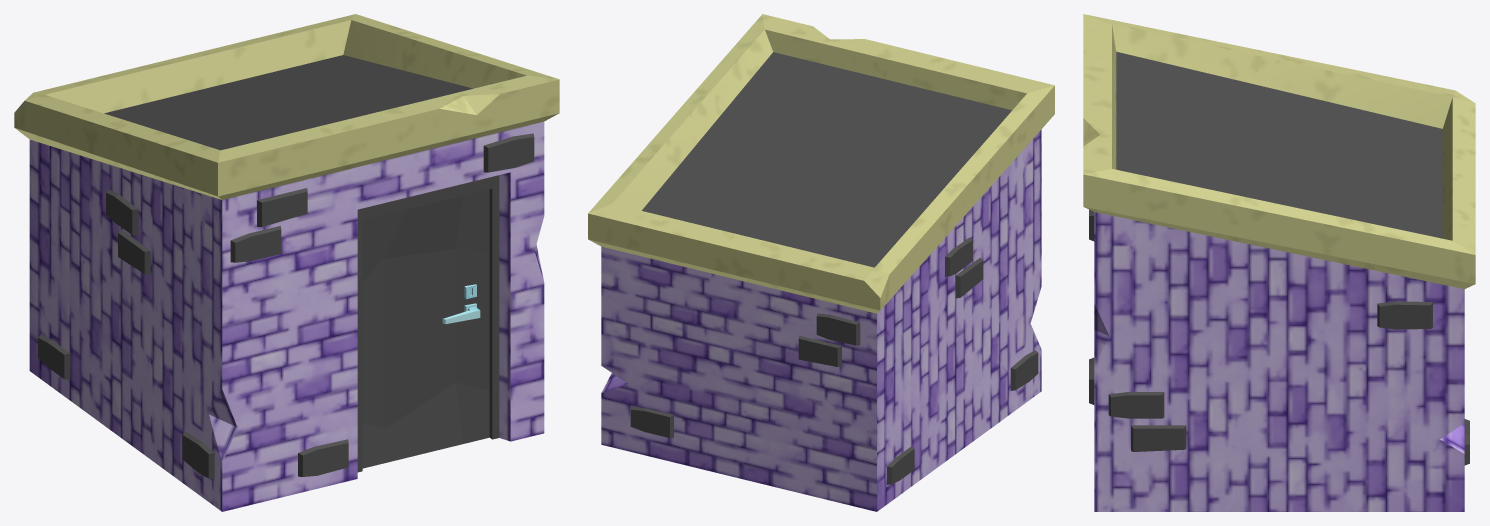
File: Roof_Access_01.fbx
3 views of the same model, side by side, from view 1: azimuth 30°, elevation 25°; view 2: azimuth 150°, elevation 25°; view 3: azimuth 270°, elevation 25° (orthographic). The views are drawn at different scales.
Visible parts, largest first — view 1: SM_Bld_Roof_Access_01; view 2: SM_Bld_Roof_Access_01; view 3: SM_Bld_Roof_Access_01.
Part boxes in pixels (<box>): SM_Bld_Roof_Access_01: <box>14,14,559,511</box>; SM_Bld_Roof_Access_01: <box>588,14,1054,511</box>; SM_Bld_Roof_Access_01: <box>1083,14,1475,511</box>.
Size of the model in its own units: 276 by 274 by 285.
